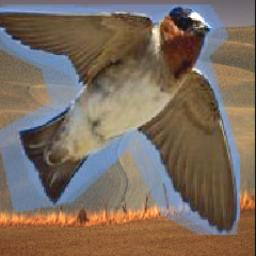Swallow: (0, 6, 240, 236)
